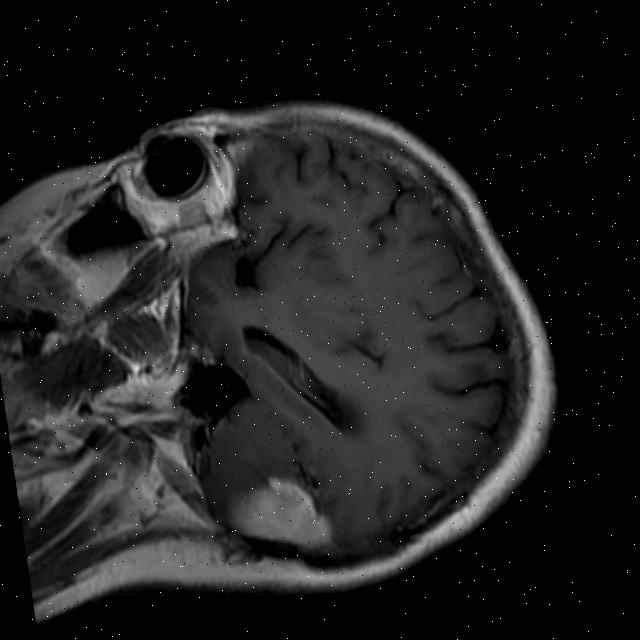Meningioma: (221, 464, 340, 568)
